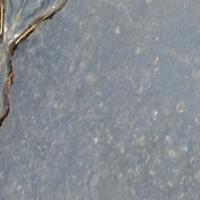crack: (3, 0, 66, 132)
